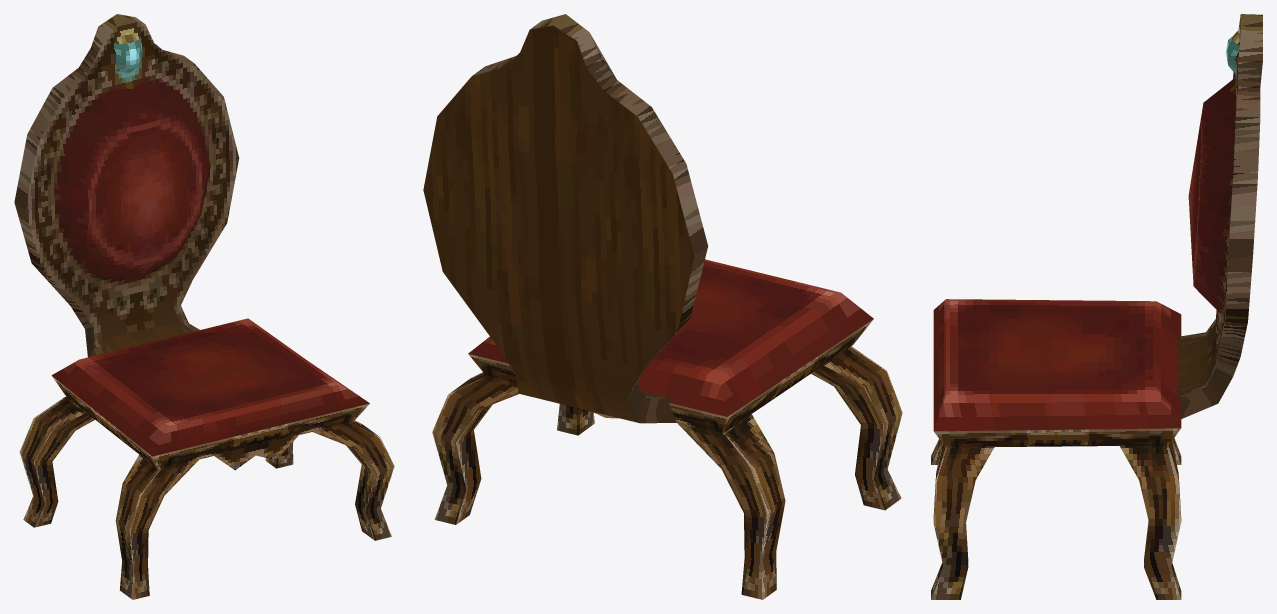
File: isu10.glb
3 views of the same model, side by side, from view 1: azimuth 30°, elevation 25°; view 2: azimuth 150°, elevation 25°; view 3: azimuth 270°, elevation 25° (orthographic). The views are drawn at different scales.
Parts seen in each view (by area): view 1: isu10; view 2: isu10; view 3: isu10.
Part boxes in pixels (left/top/right/bottom): isu10: left=14, top=14, right=394, bottom=599; isu10: left=423, top=14, right=902, bottom=599; isu10: left=931, top=14, right=1262, bottom=599.
Size of the model in its own units: 142 by 229 by 134.
4 materials, 4 textured.
